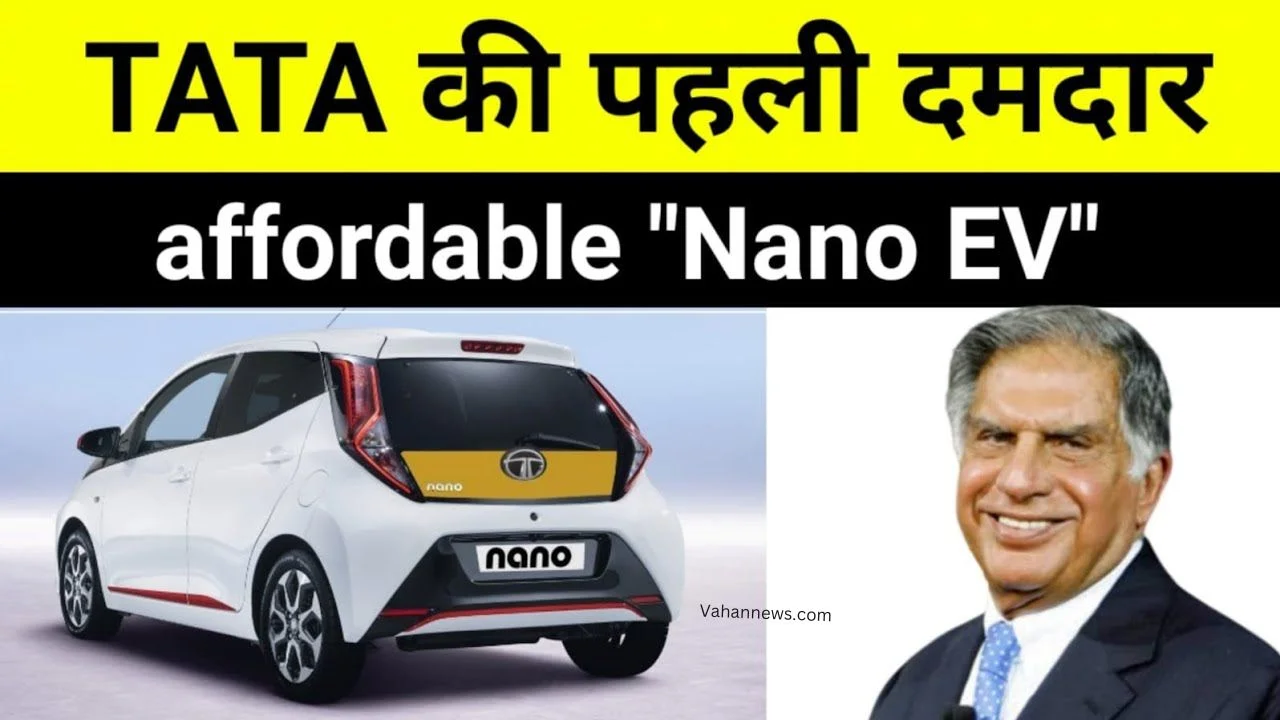Nano: (55, 330, 679, 704)
